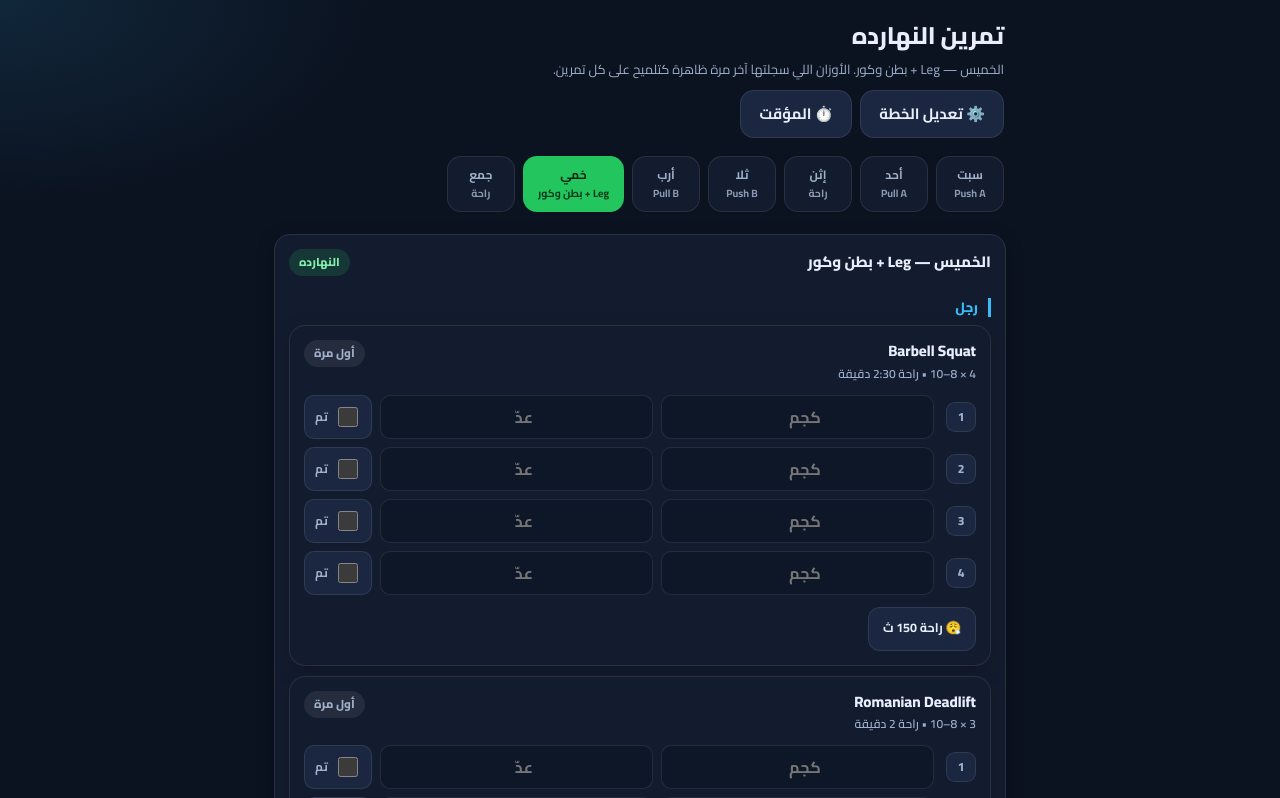
Test case: WorkoutPage › renders Sunday = Pull A with a single-value range (3 × 15)
Click the button "أحد Pull A": x=894, y=184 [860,156,928,212]
(page scrolled)
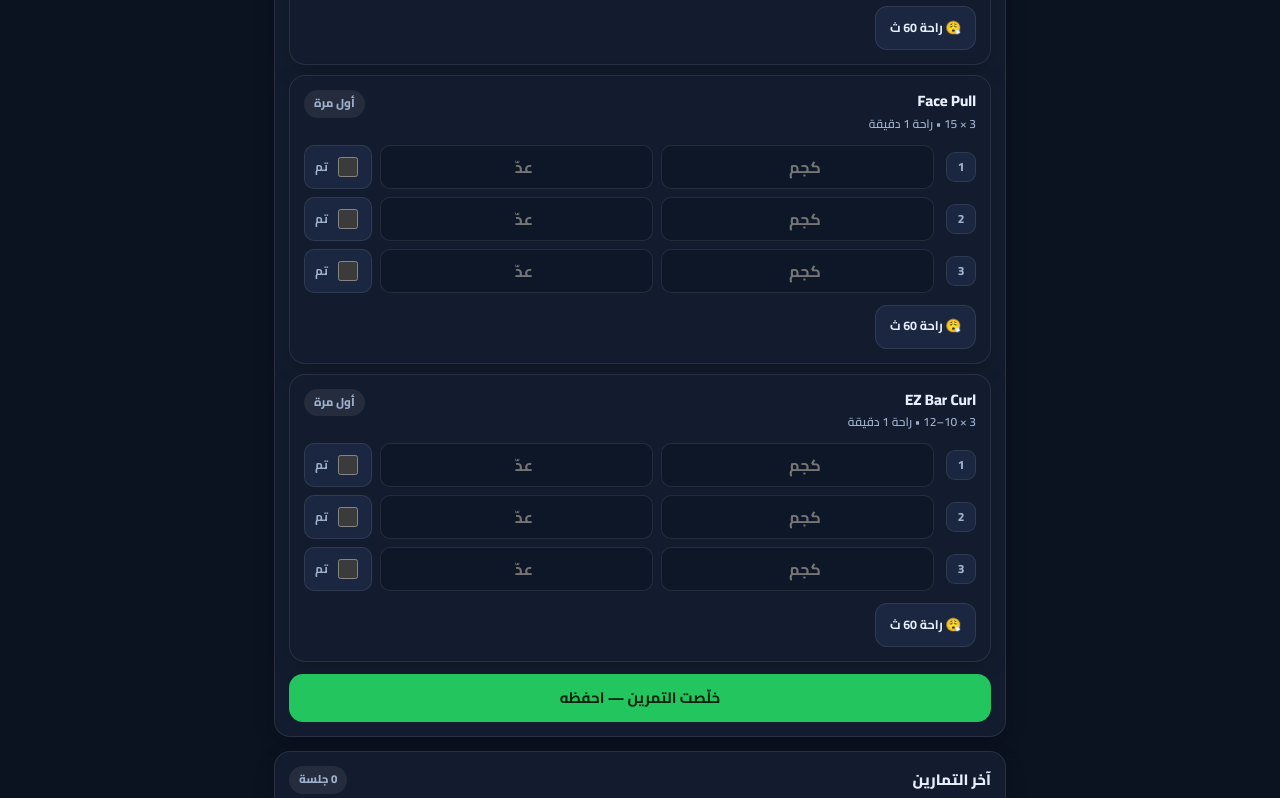
Check: the text "3 × 15 • راحة 1 دقيقة" is shown, box [869,112,976,135]
Check: the heading "EZ Bar Curl" is shown, box [905,385,976,414]
